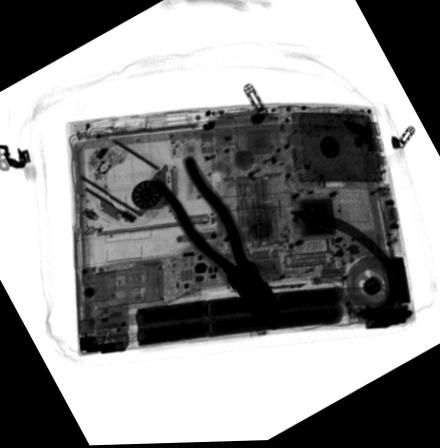Pliers: (150, 154, 276, 318)
